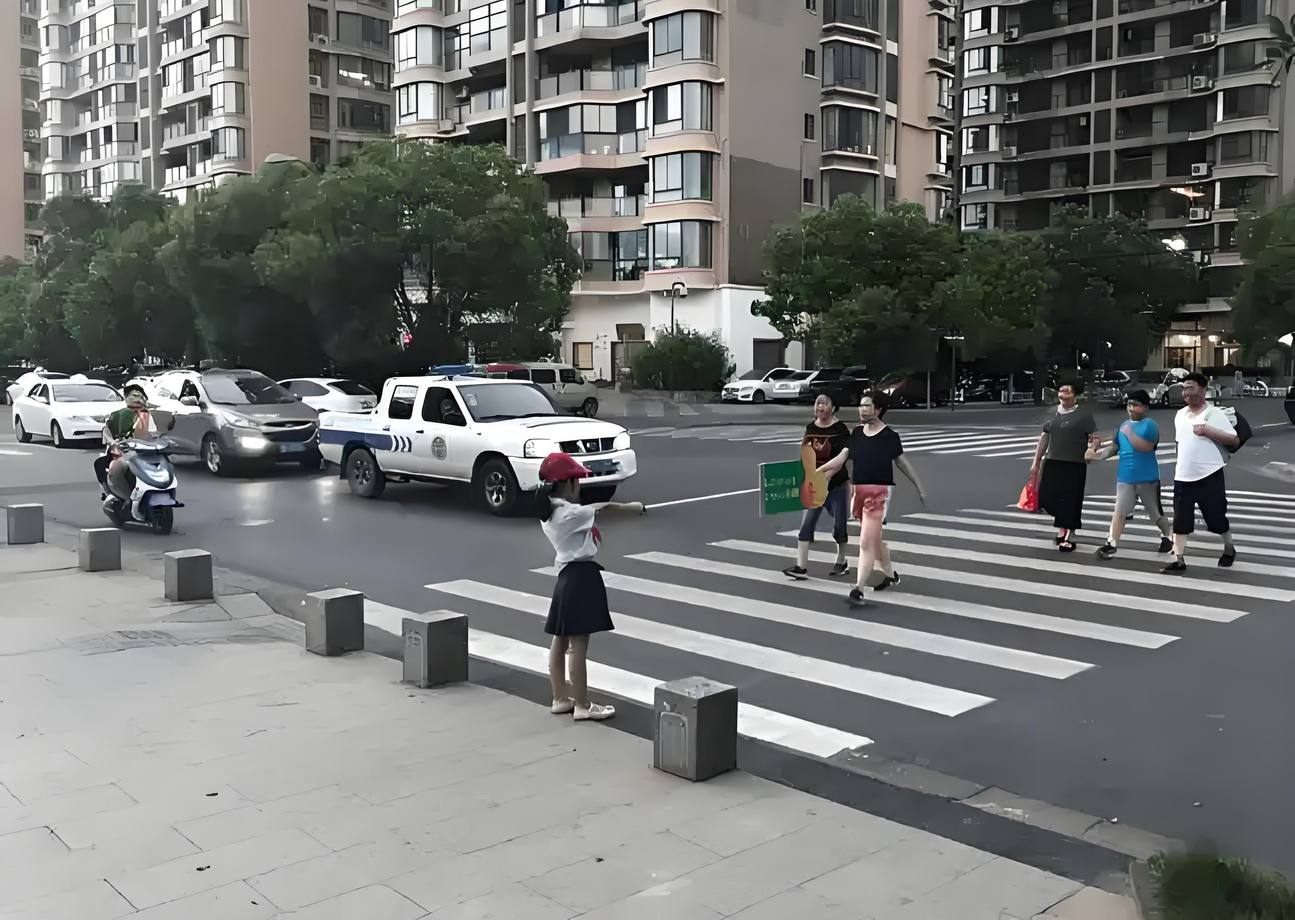car: (365, 386, 629, 507), (138, 361, 324, 488), (15, 375, 126, 445), (269, 371, 369, 424), (726, 362, 816, 401), (802, 358, 866, 402), (778, 356, 829, 404)
motorbike: (94, 430, 200, 548)
person: (1117, 354, 1233, 573), (534, 496, 617, 710), (820, 398, 908, 597), (782, 385, 848, 601), (1030, 377, 1110, 551), (93, 377, 168, 466)
